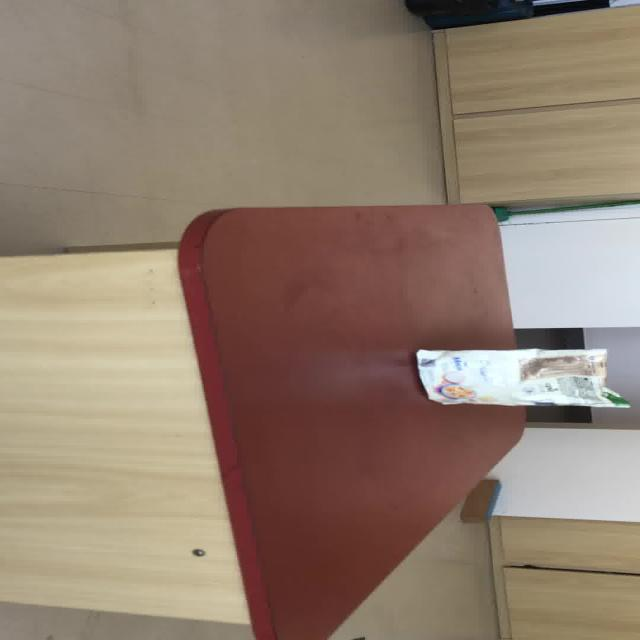corn flakes: (413, 347, 629, 408)
